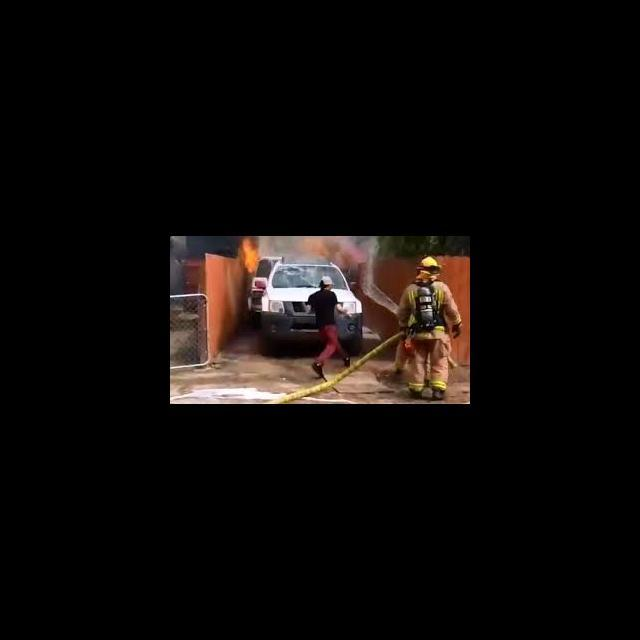Fire: (238, 236, 260, 273)
Smoke: (262, 236, 358, 257)
